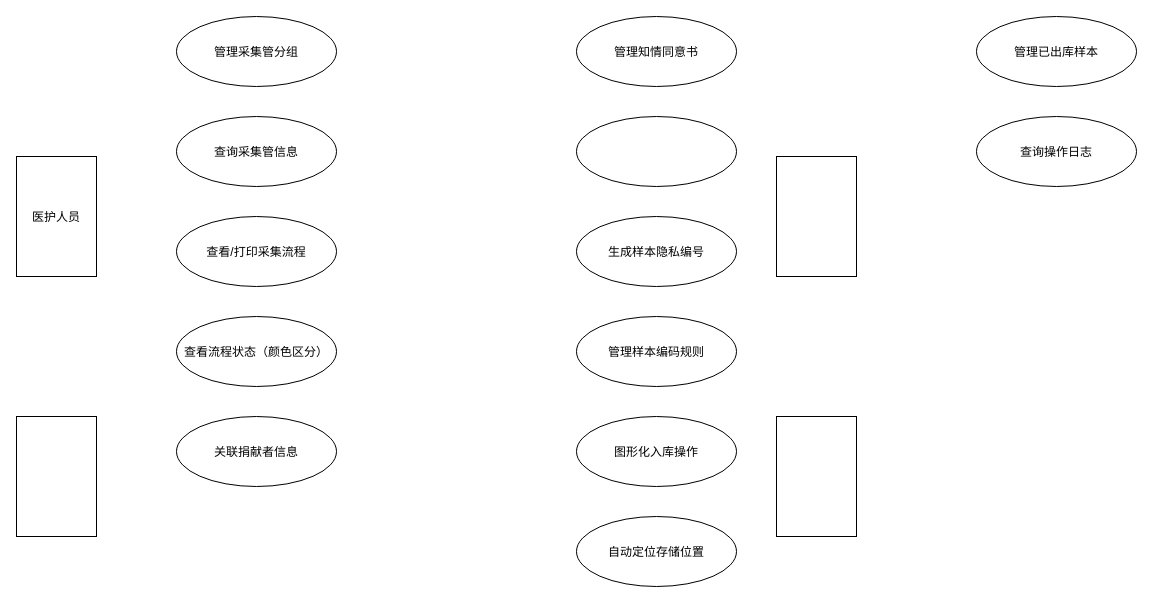
This 1153x603 diagram has some shape labels left out. Each missing label, with the centre of its shape:
样本登记与自动保存: the point at 656,151
样本管理员: the point at 816,216
系统: the point at 816,476
系统管理员: the point at 56,476
